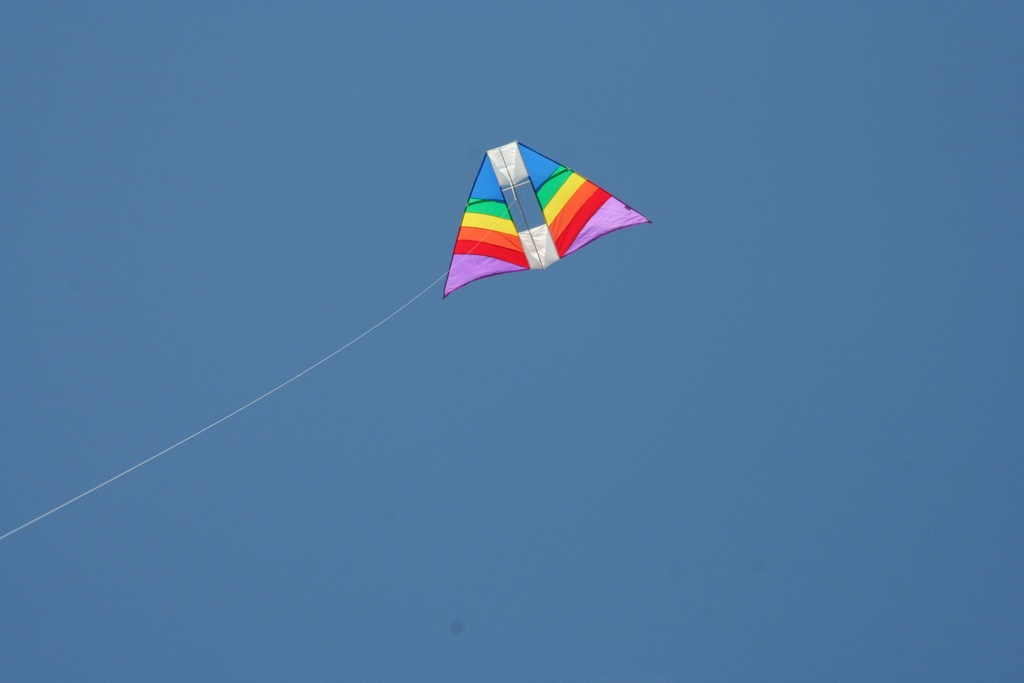kite: (438, 136, 657, 304)
